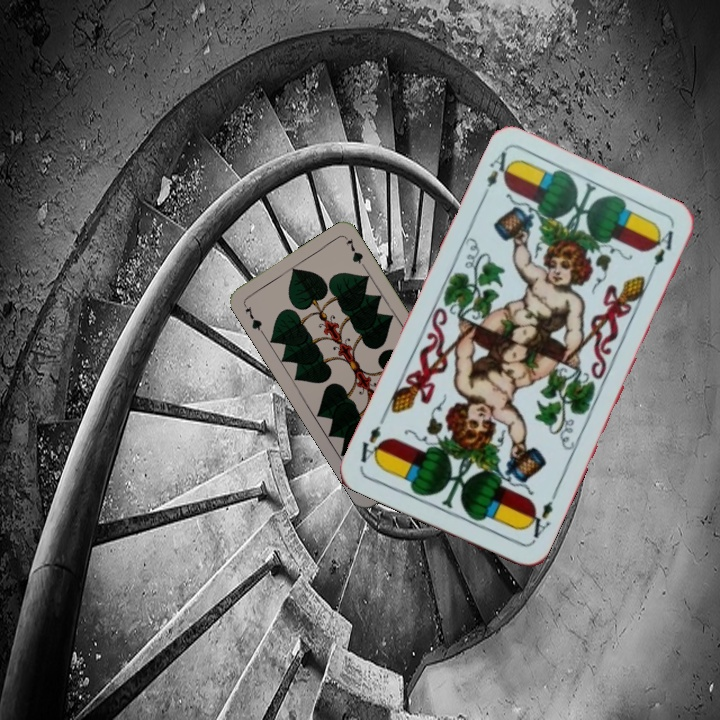EA: (477, 146, 517, 203), (520, 497, 556, 546)
G7: (239, 299, 266, 336)
